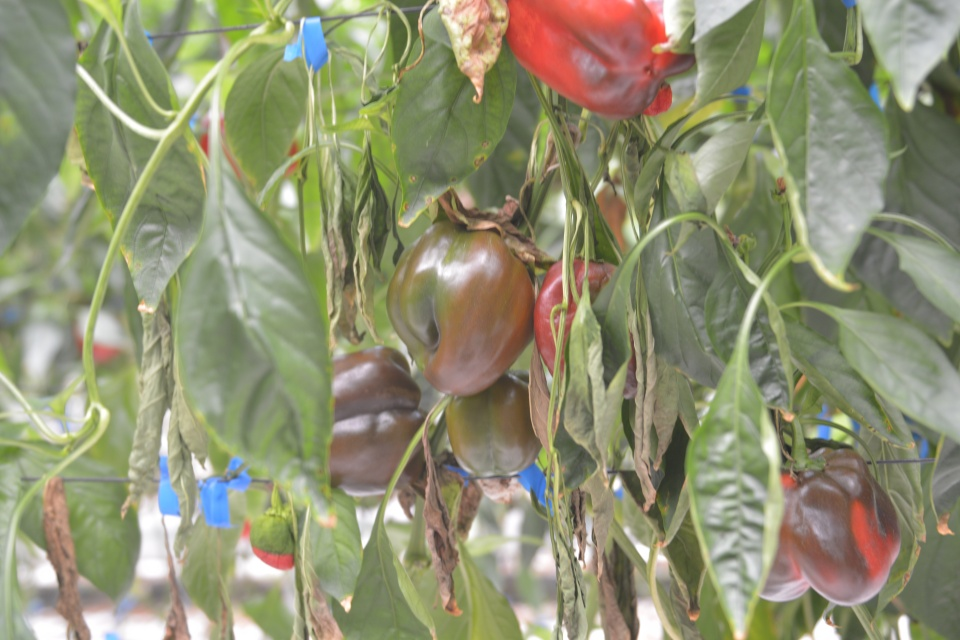fruit: (385, 217, 535, 400), (757, 441, 903, 608), (504, 2, 696, 122), (327, 342, 431, 497), (537, 253, 637, 402), (448, 367, 544, 480)
immature: (249, 508, 293, 556)
pedicle: (780, 452, 828, 472)
